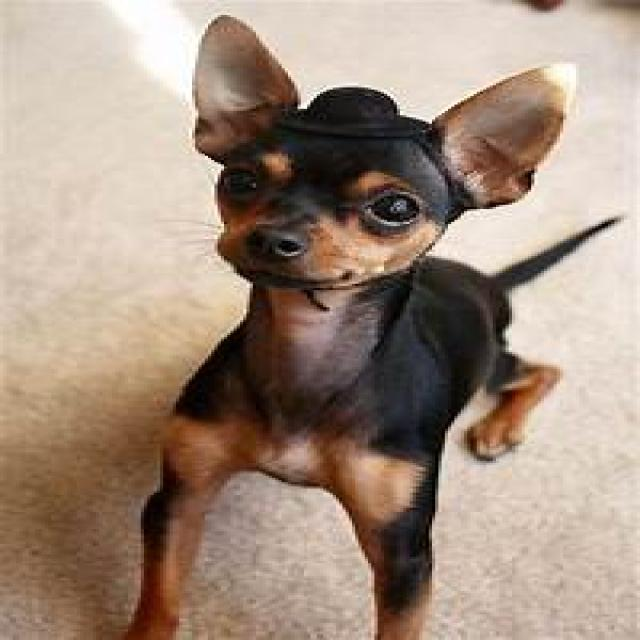dog: (122, 17, 579, 640)
